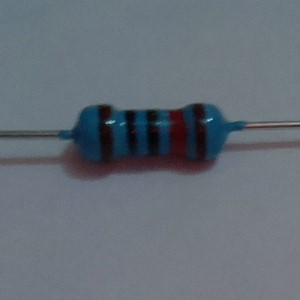black_band: (123, 109, 141, 159), (145, 107, 162, 159)
brown_band: (96, 102, 117, 163), (192, 102, 209, 162)
red_band: (167, 107, 189, 162)
